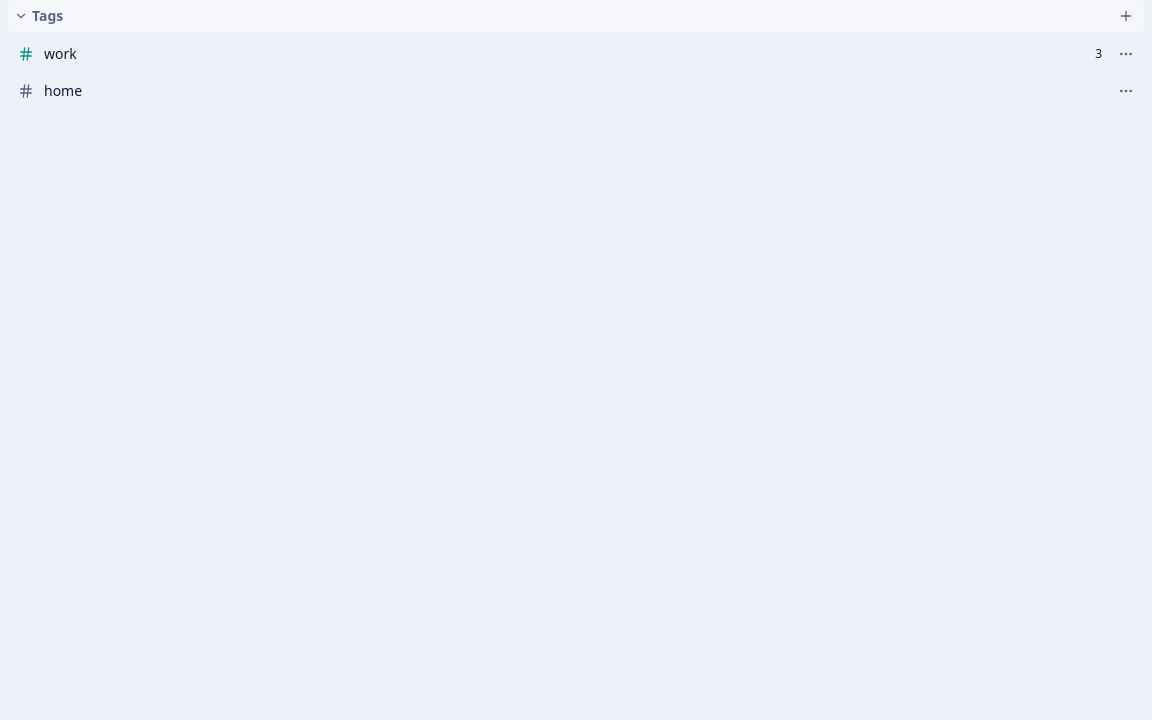
SidebarTags › merges a Tag into another after a confirm that counts its Tasks
Click the button named "work options": (1126, 54) x1=1112 y1=40 x2=1140 y2=68
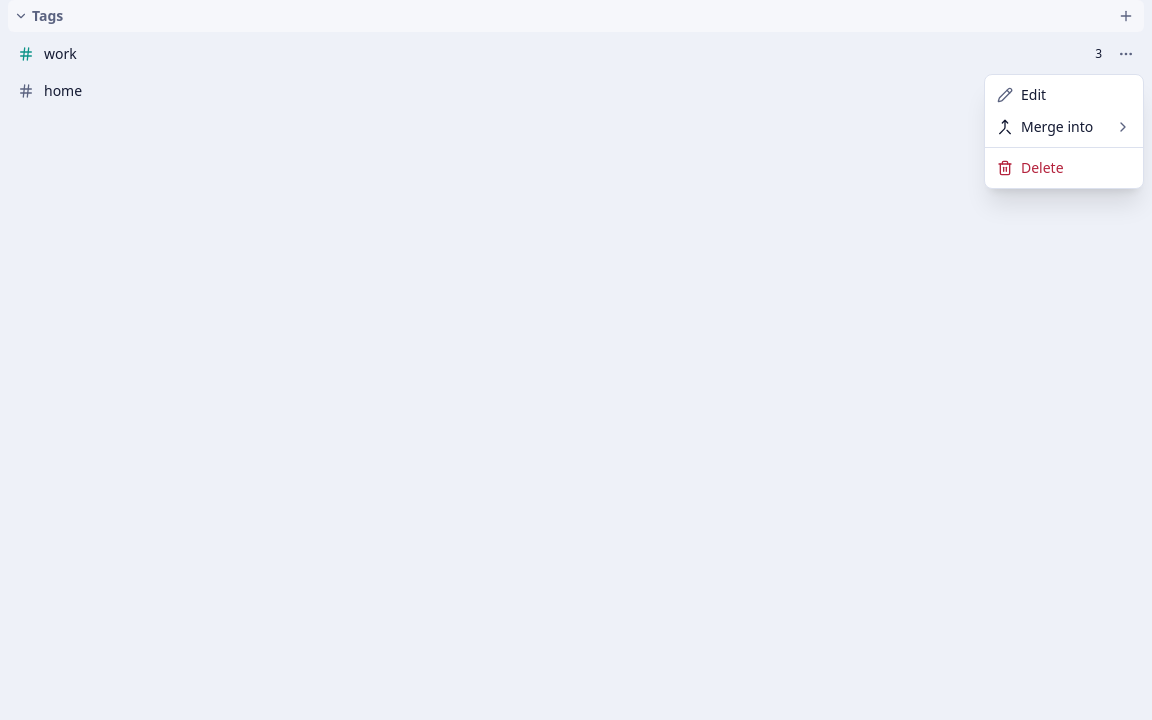
Click the menu item "Merge into": (1064, 126) x1=997 y1=117 x2=1131 y2=136
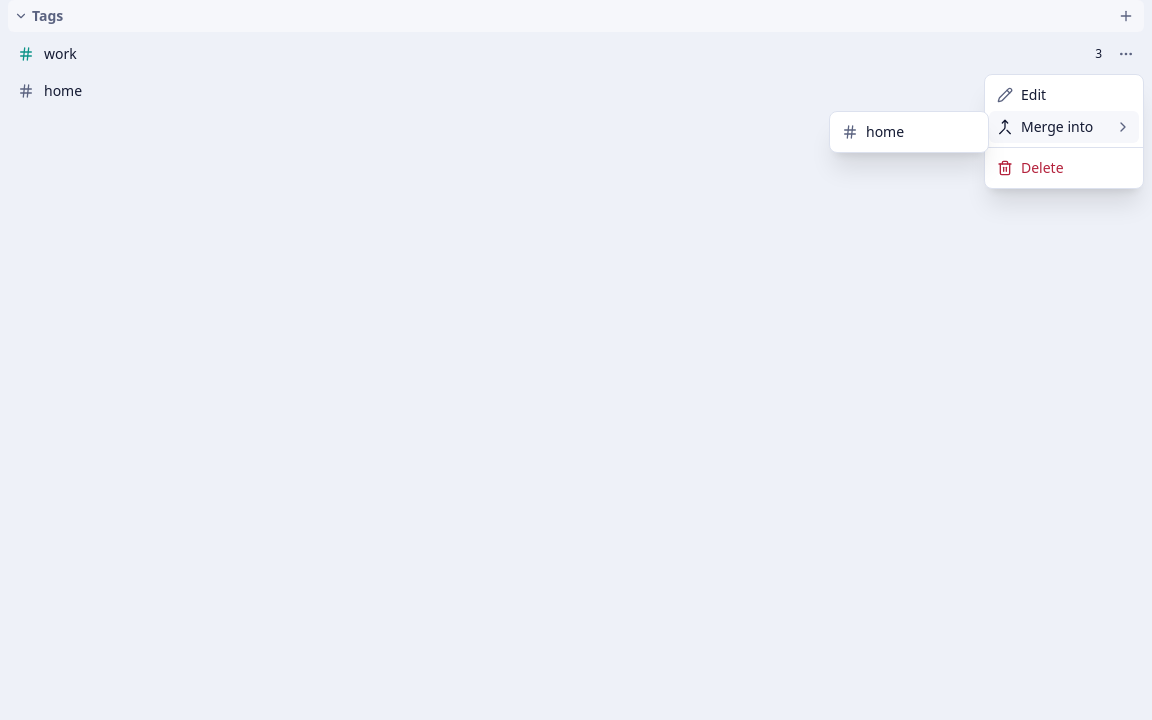
Press Arrowright
Press Enter
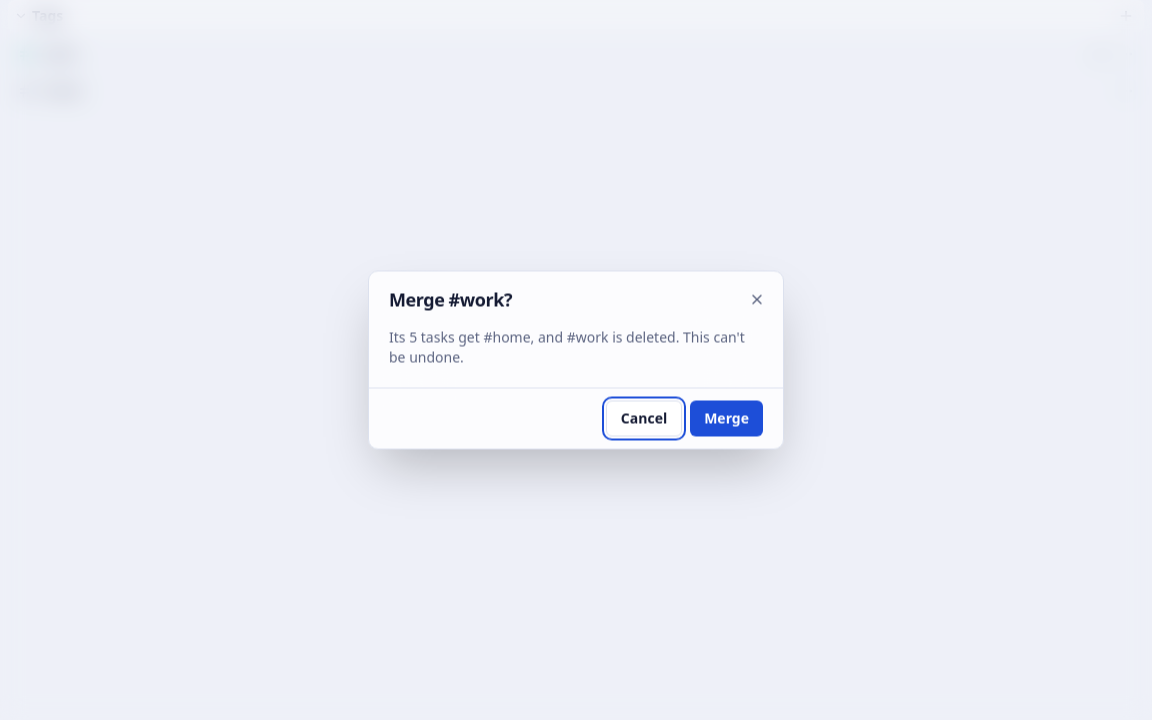
Now the dialog "Merge #work?" shows "Its 5 tasks get #home, and #work is deleted.", box x1=389 y1=328 x2=745 y2=366
Click the button "Merge": (727, 418) x1=690 y1=400 x2=763 y2=436
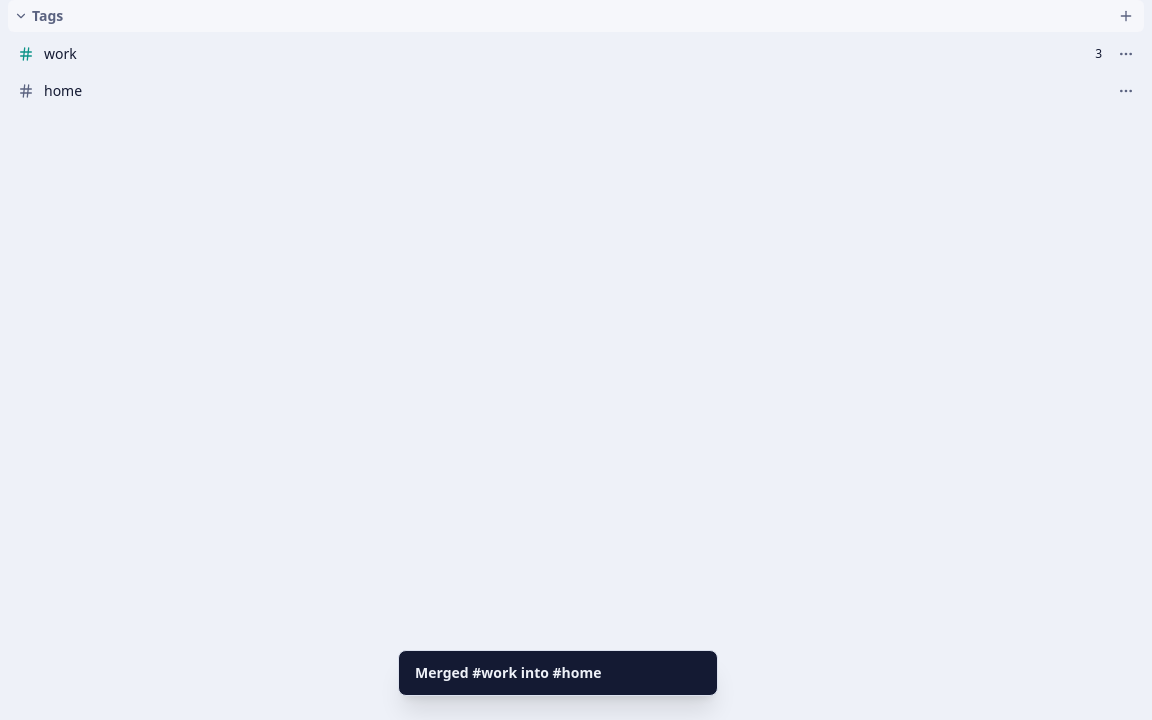
Now the text "Merged #work into #home" is shown, box x1=415 y1=663 x2=602 y2=683
